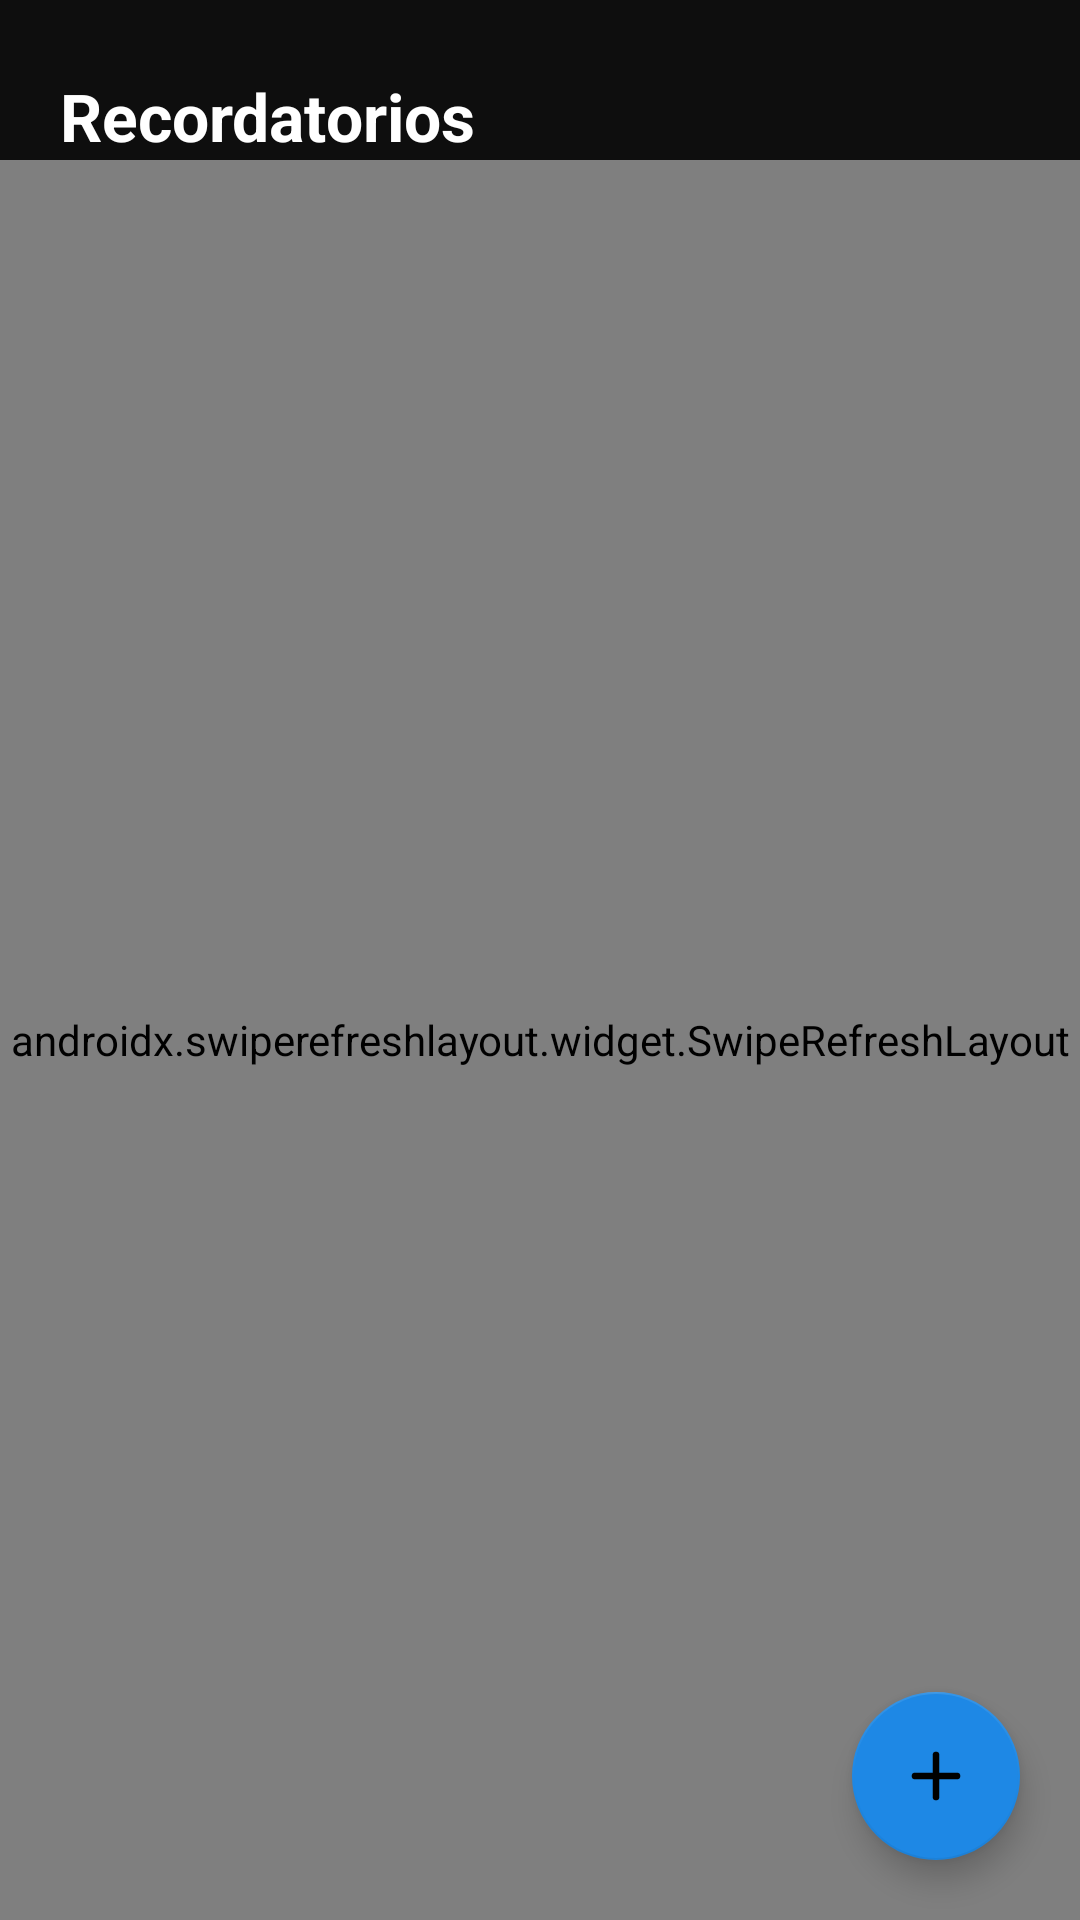

Icons on this 1080×1920 Android screen, each with the point to tap as point (x, y):
Nuevo recordatorio: point (936, 1776)
